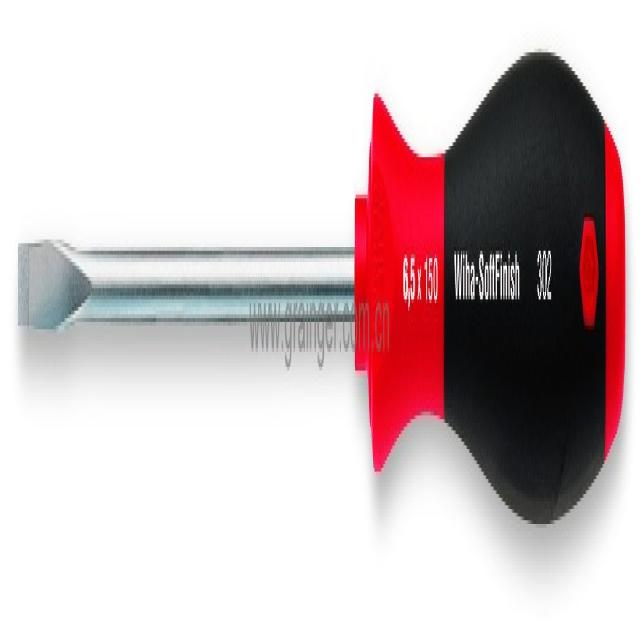screw driver: (5, 16, 631, 639)
